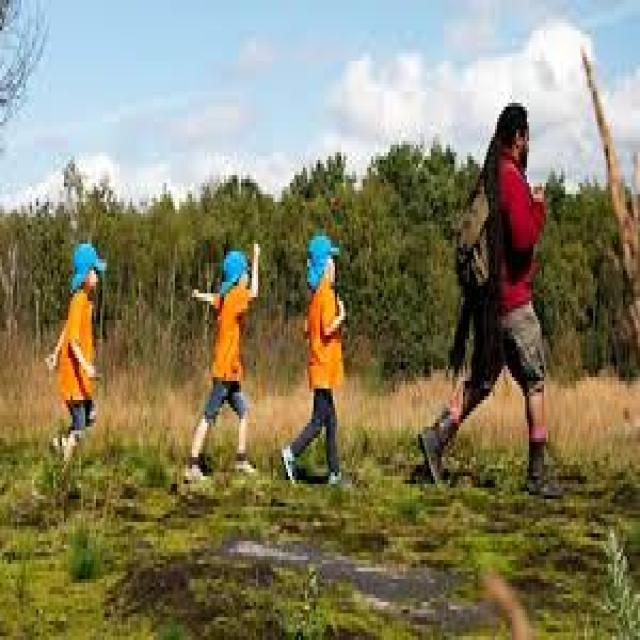Person: (418, 103, 563, 499), (283, 234, 346, 487), (193, 241, 259, 469), (50, 244, 107, 454)
